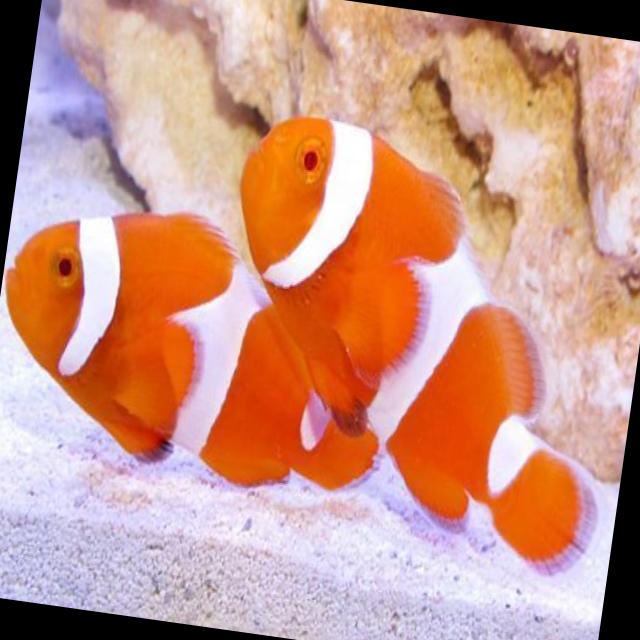ClownFish: (194, 103, 640, 582), (0, 184, 409, 499)
